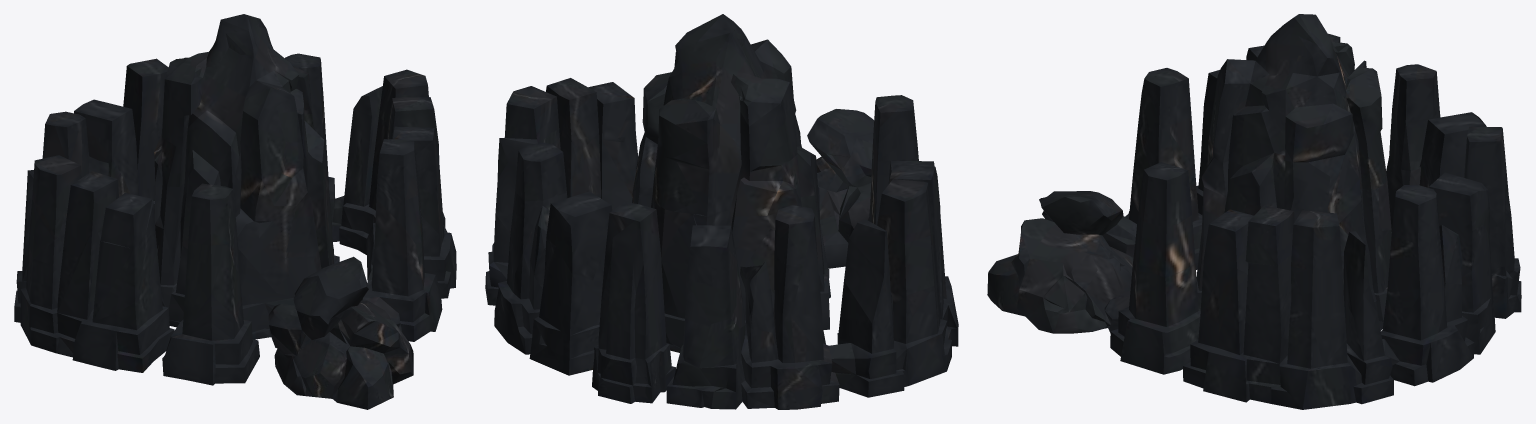
The model's file is basalt_columns.glb.
3 renders of one model, left to right at view 1: azimuth 30°, elevation 25°; view 2: azimuth 150°, elevation 25°; view 3: azimuth 270°, elevation 25°, orthographic. The views are drawn at different scales.
Bounding box in the file's own units: 1.77 × 1.15 × 1.9.
1 material, 1 textured.
